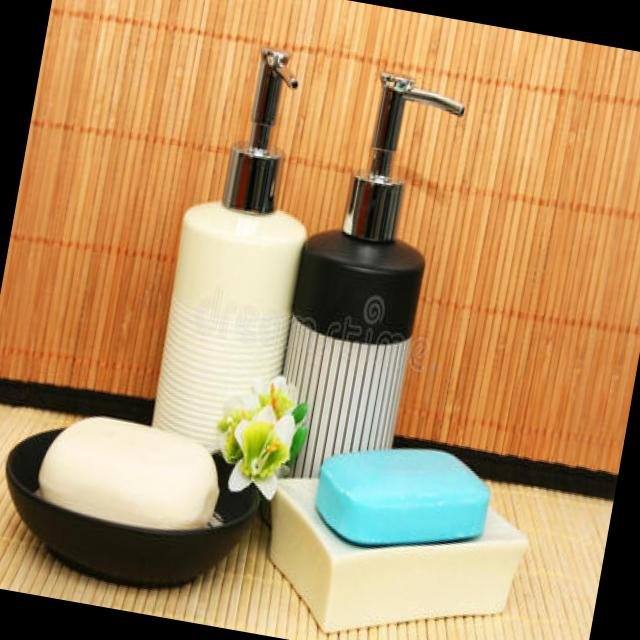sanitizer: (274, 52, 463, 457), (146, 32, 332, 419)
